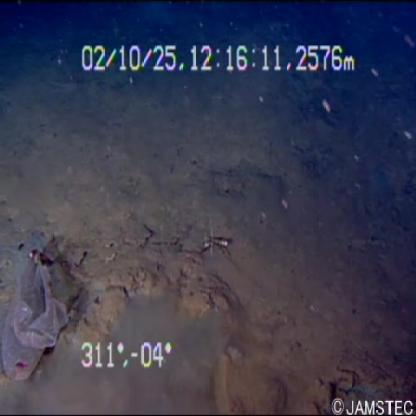Rác: (1, 220, 79, 384)
